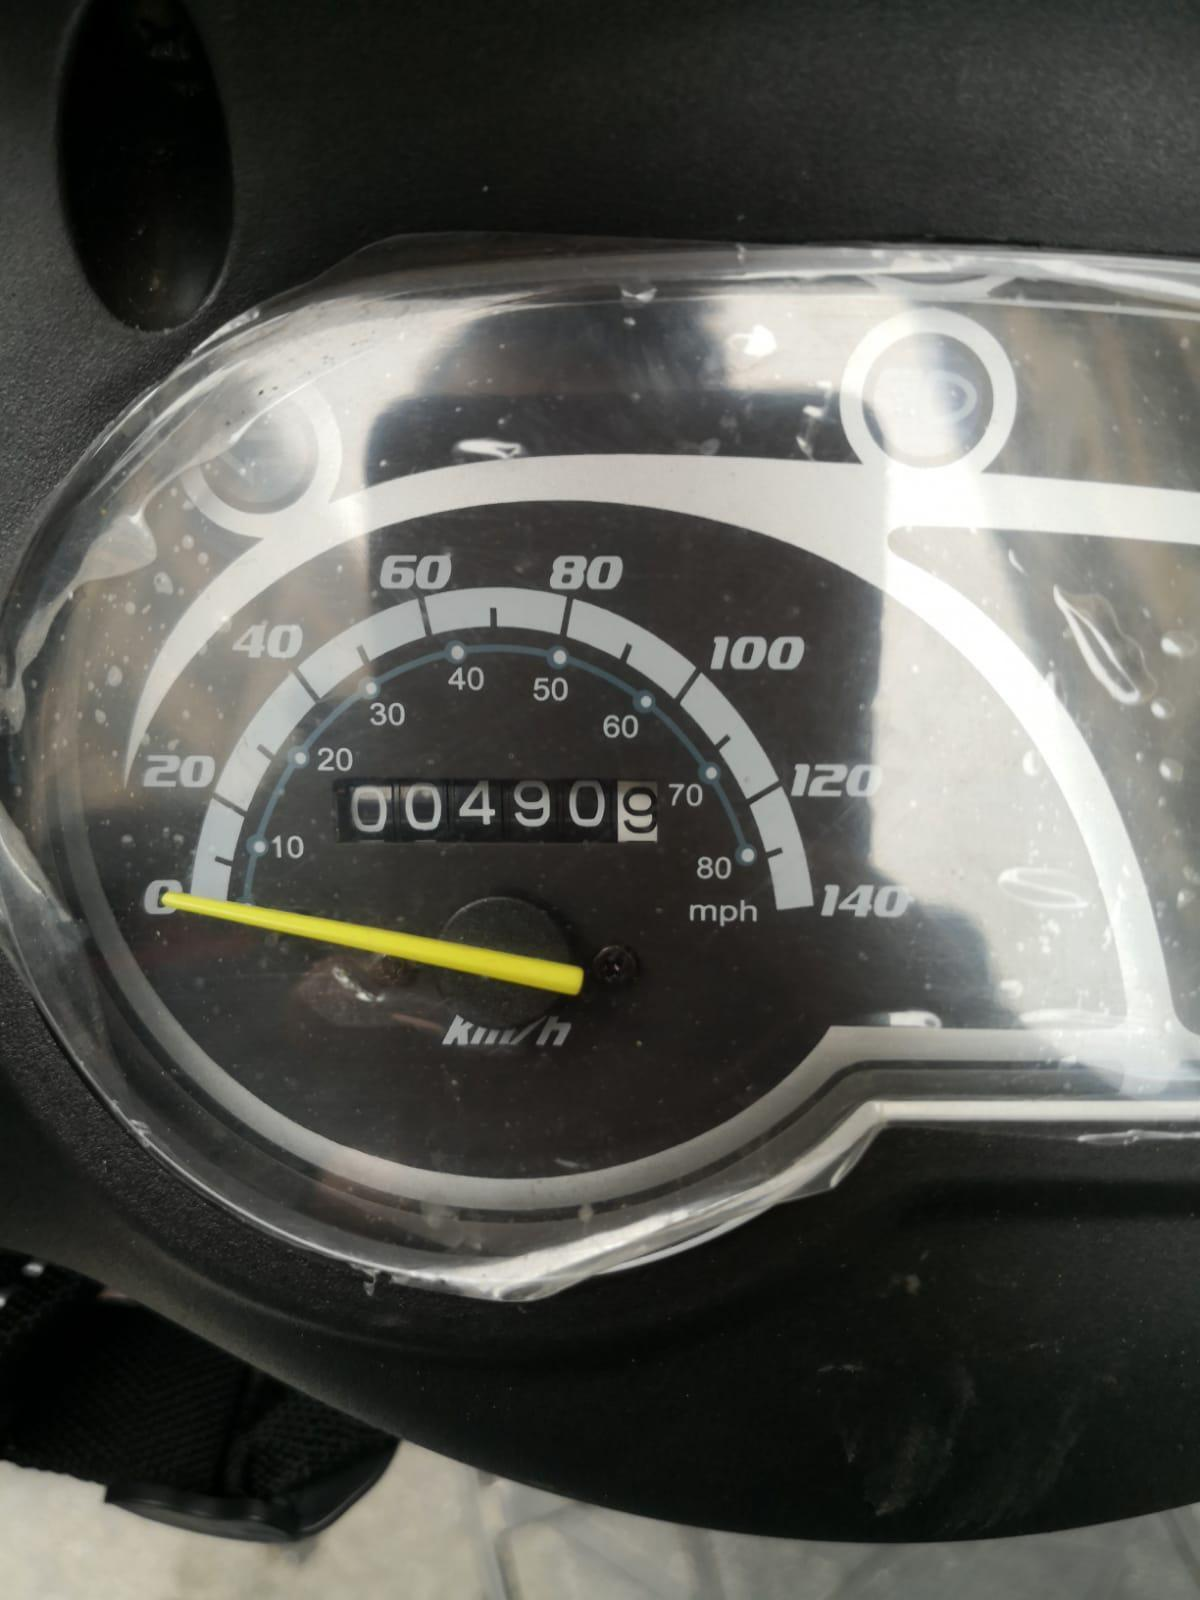0: (403, 780, 442, 831), (349, 784, 388, 834), (567, 777, 606, 828)
4: (456, 779, 497, 826)
9: (513, 779, 551, 828), (621, 785, 657, 834)
odometer: (324, 771, 669, 850)
